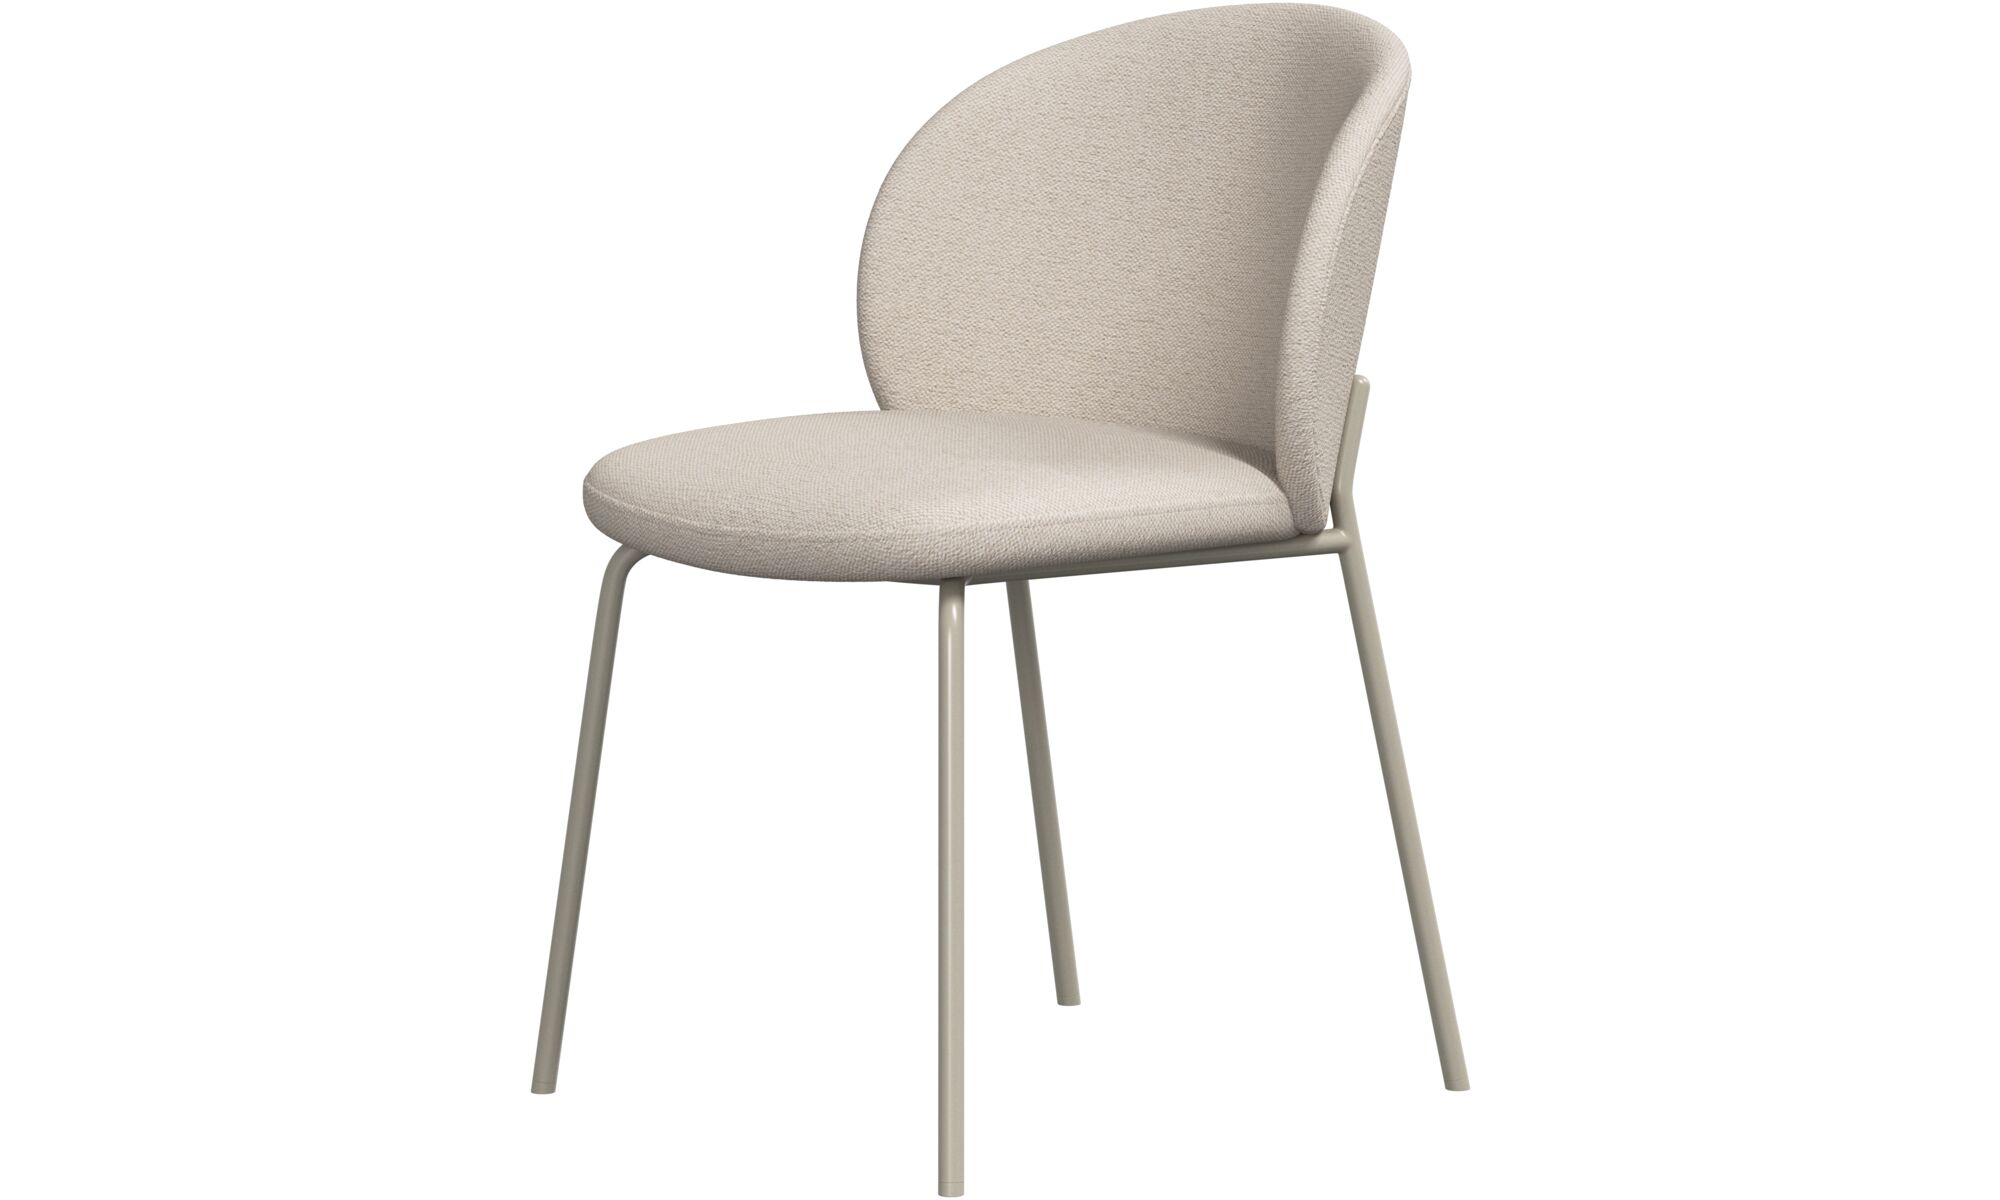chair: (551, 23, 1439, 1200)
